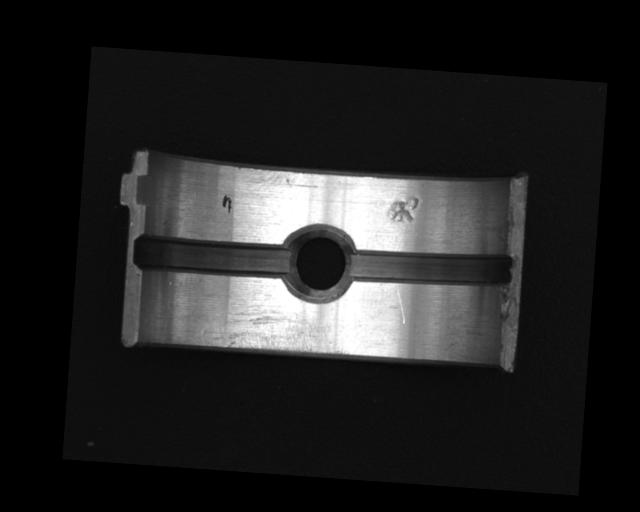blot: (221, 192, 233, 215)
bruise: (385, 192, 420, 225)
gap: (346, 241, 514, 293), (132, 232, 295, 280)
hole: (279, 222, 359, 304)
nick: (392, 284, 408, 324)
scratch: (196, 304, 352, 357)
